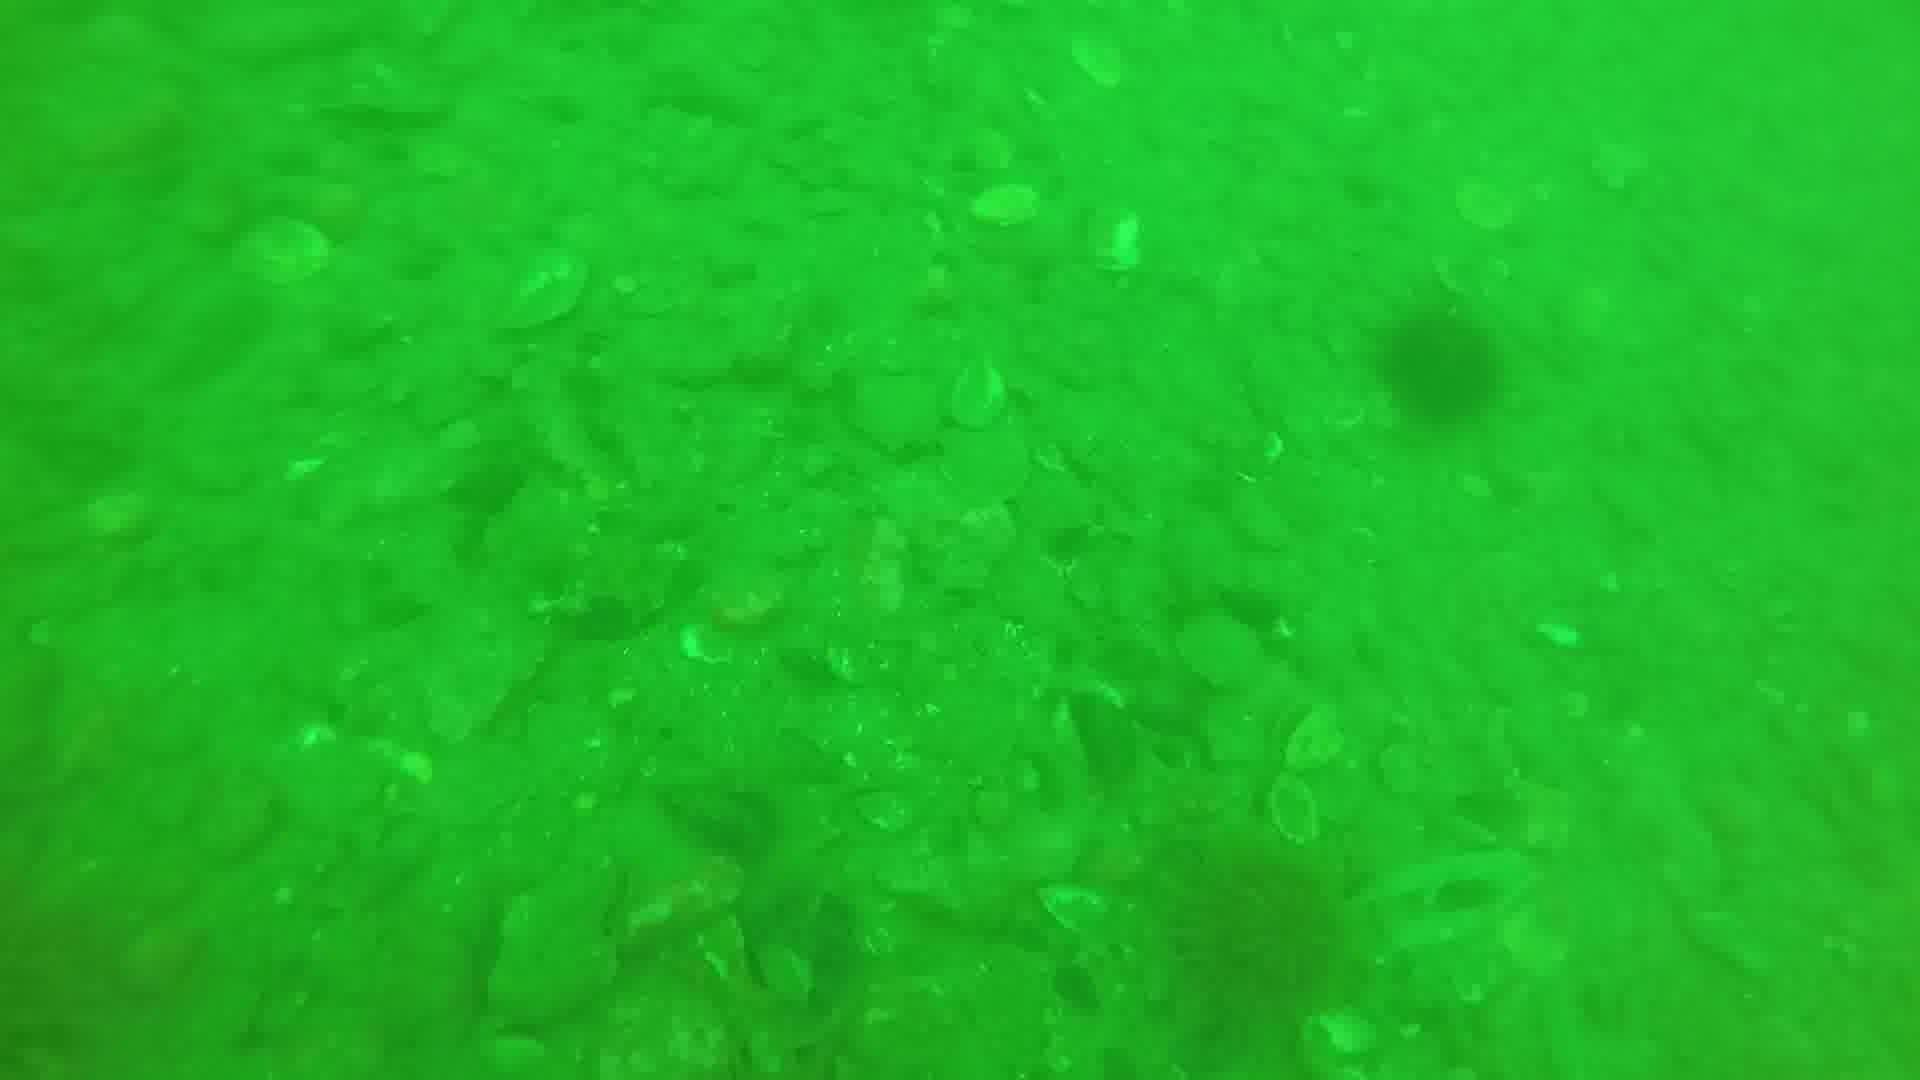echinus: (1387, 309, 1502, 423)
scallop: (492, 255, 597, 336), (229, 220, 328, 282), (1290, 694, 1348, 778), (1031, 884, 1106, 942), (957, 353, 1010, 435), (1263, 773, 1320, 847), (1455, 167, 1520, 229), (1073, 29, 1121, 88), (679, 626, 742, 669), (968, 187, 1040, 223)
